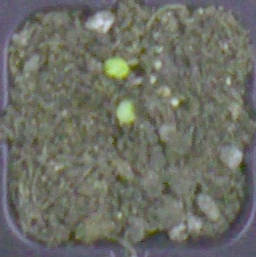pepper seed: (45, 35, 182, 160), (36, 17, 167, 96)
